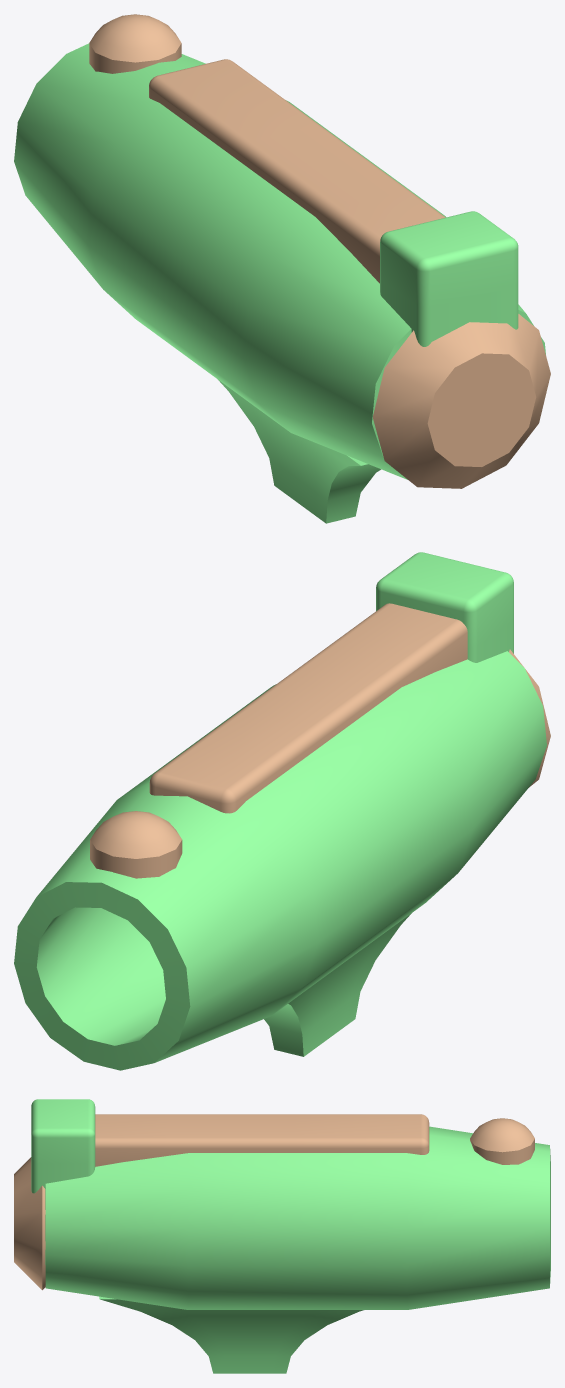
Rendered from Fox.FBX.
3 renders of one model, top to bottom at view 1: azimuth 30°, elevation 25°; view 2: azimuth 150°, elevation 25°; view 3: azimuth 270°, elevation 25°, orthographic. The views are drawn at different scales.
Parts seen in each view (by area): view 1: Fox; view 2: Fox; view 3: Fox.
Part boxes in pixels (x1,y1,x2,y2): Fox: (14,14,550,523); Fox: (14,552,550,1070); Fox: (14,1099,550,1373).
Bounding box in the file's own units: 20.83 × 59.62 × 31.28.
